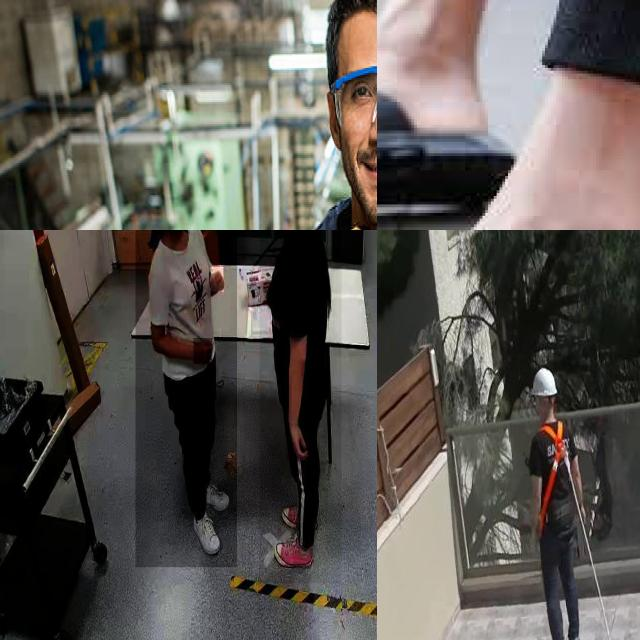Harness: (540, 421, 567, 530)
No_Ear-Protection: (323, 88, 343, 157)
face_nomask: (341, 116, 377, 224)
glasses: (331, 66, 377, 126)
hand_noglove: (286, 423, 309, 462), (193, 338, 213, 364), (210, 266, 224, 292)
head_nohelmet: (327, 0, 377, 87)
person: (135, 230, 237, 568), (259, 230, 342, 584)
shoes: (271, 538, 317, 571), (190, 509, 220, 555), (280, 503, 319, 533), (196, 479, 230, 512)
